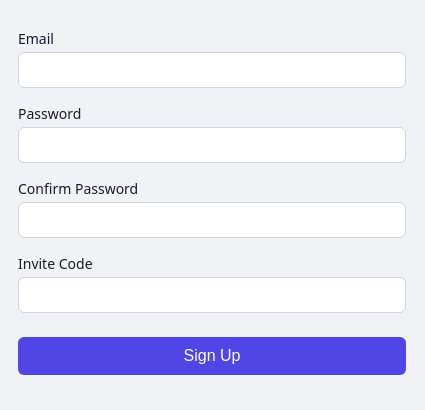
it: SignupForm › clears previous error when resubmitting
The image size is (425, 410).
Type "test@example.com" into the field labelled "Email" at x=212, y=70, box x1=18 y1=52 x2=406 y2=88
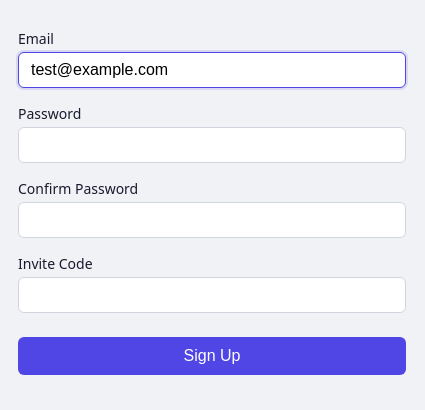
Type "password123" into the password field labelled "Password" at x=212, y=145, box x1=18 y1=127 x2=406 y2=163
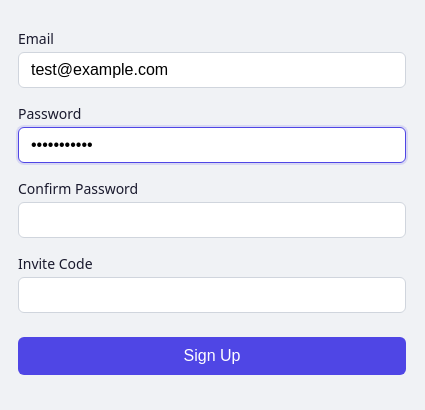
Type "password123" into the password field labelled "Confirm Password" at x=212, y=220, box x1=18 y1=202 x2=406 y2=238
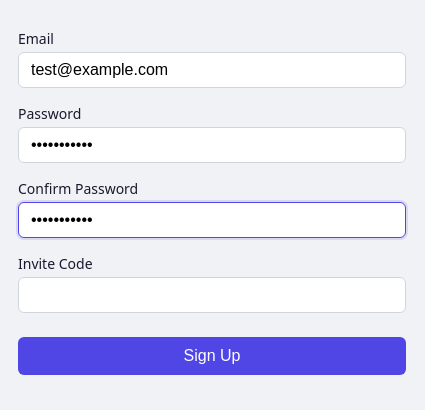
Type "ABC123" into the field labelled "Invite Code" at x=212, y=295, box x1=18 y1=277 x2=406 y2=313
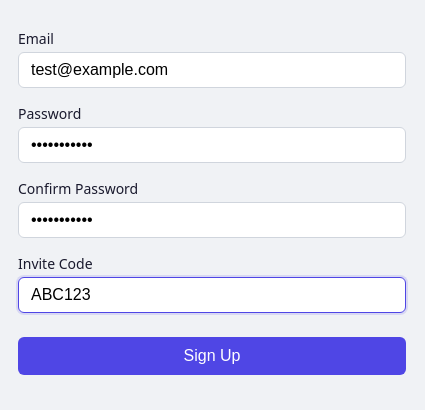
Click the button "Sign Up" at x=212, y=356, box x1=18 y1=337 x2=406 y2=375
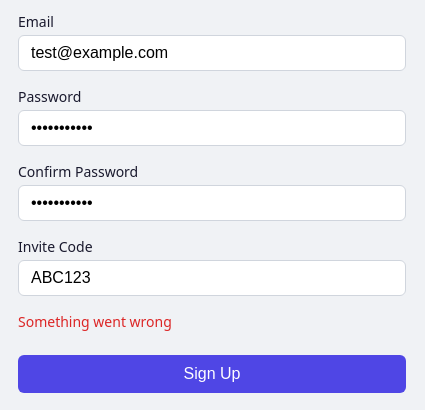
expect the text "Something went wrong" is shown: met, box x1=18 y1=312 x2=172 y2=330
Click the button "Sign Up" at x=212, y=374, box x1=18 y1=354 x2=406 y2=392
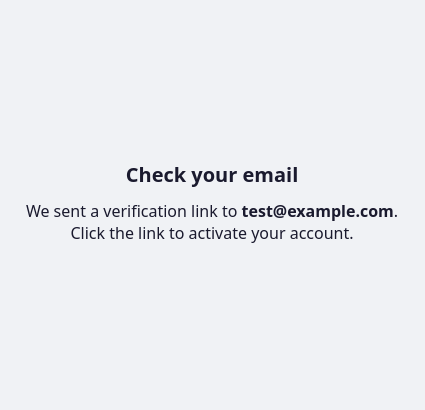
expect the text "Something went wrong" is gone: met
